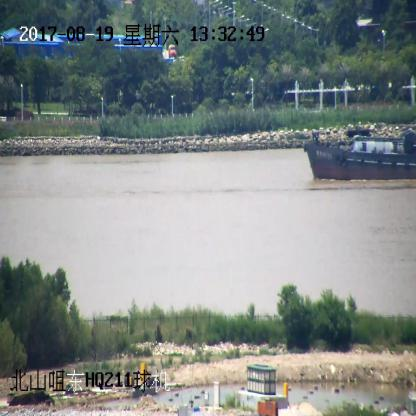Bulk Carrier: (302, 133, 416, 182)
